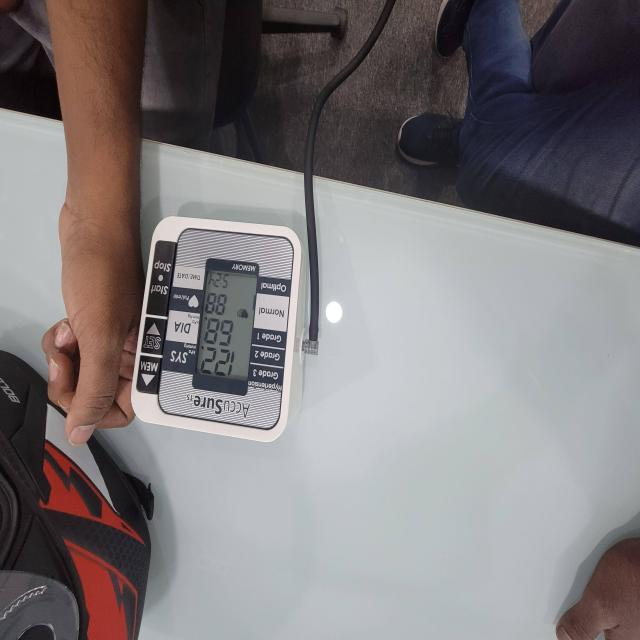bp: (133, 217, 303, 439)
